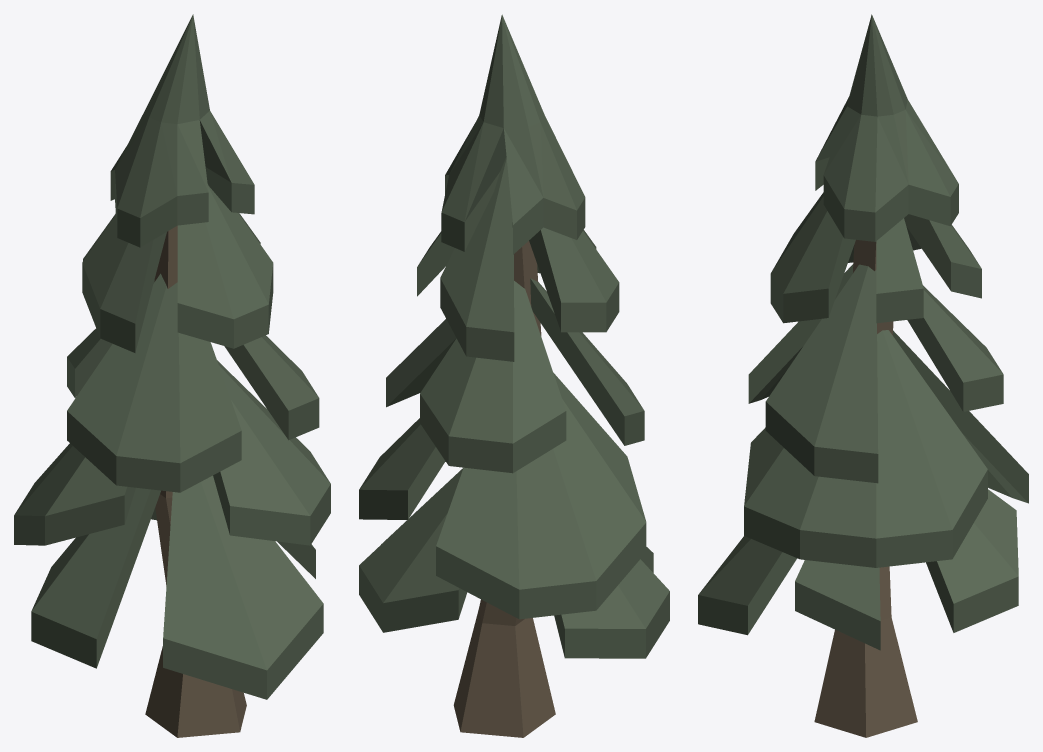
The model's file is SM_Generic_Tree_02.glb.
The picture shows the model from 3 angles, left to right: view 1: azimuth 30°, elevation 25°; view 2: azimuth 150°, elevation 25°; view 3: azimuth 270°, elevation 25°; orthographic projection.
Parts seen in each view (by area): view 1: SM_Generic_Tree_02; view 2: SM_Generic_Tree_02; view 3: SM_Generic_Tree_02.
Boxes of the visible parts, box(x1,y1,x2,y2) form: SM_Generic_Tree_02: box(14, 14, 330, 737); SM_Generic_Tree_02: box(359, 14, 669, 737); SM_Generic_Tree_02: box(698, 14, 1028, 737).
Size of the model in its own units: 1.39 by 3.51 by 1.47.
Materials: 1 (1 with a texture image).
